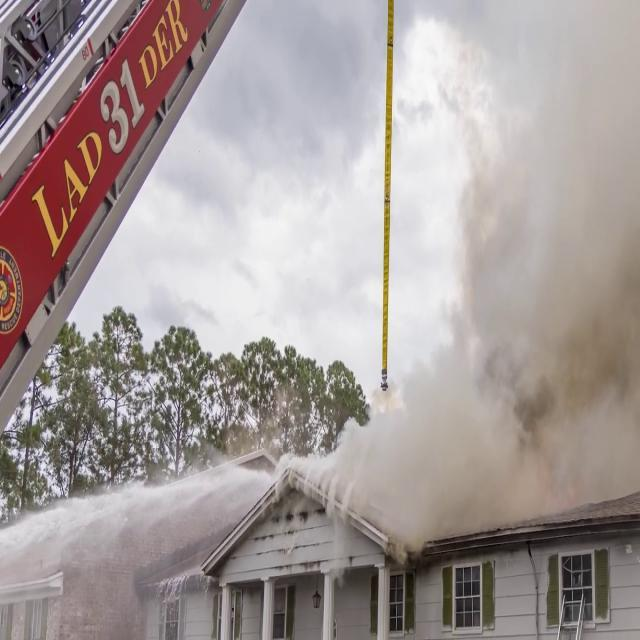Smoke: (318, 2, 640, 534)
